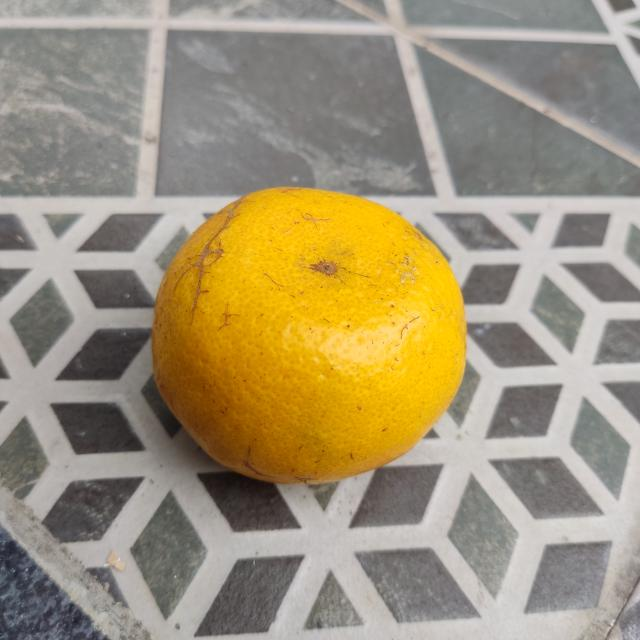orange: (147, 180, 471, 491)
